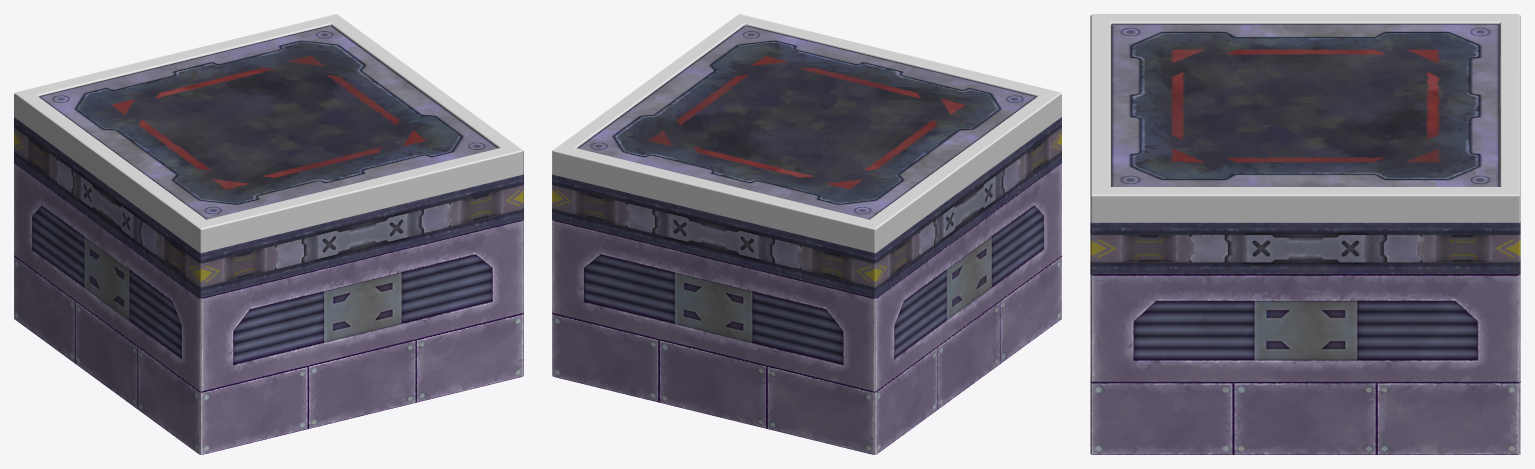
File: SM_SpawnBlocker.fbx
3 views of the same model, side by side, from view 1: azimuth 30°, elevation 25°; view 2: azimuth 150°, elevation 25°; view 3: azimuth 270°, elevation 25° (orthographic). The views are drawn at different scales.
Parts seen in each view (by area): view 1: SM_SpawnBlocker; view 2: SM_SpawnBlocker; view 3: SM_SpawnBlocker.
Boxes of the visible parts, x1,y1,x2,y2 form: SM_SpawnBlocker: (14,14,523,454); SM_SpawnBlocker: (552,14,1061,454); SM_SpawnBlocker: (1090,14,1520,454).
Bounding box in the file's own units: 600 × 400 × 600.
